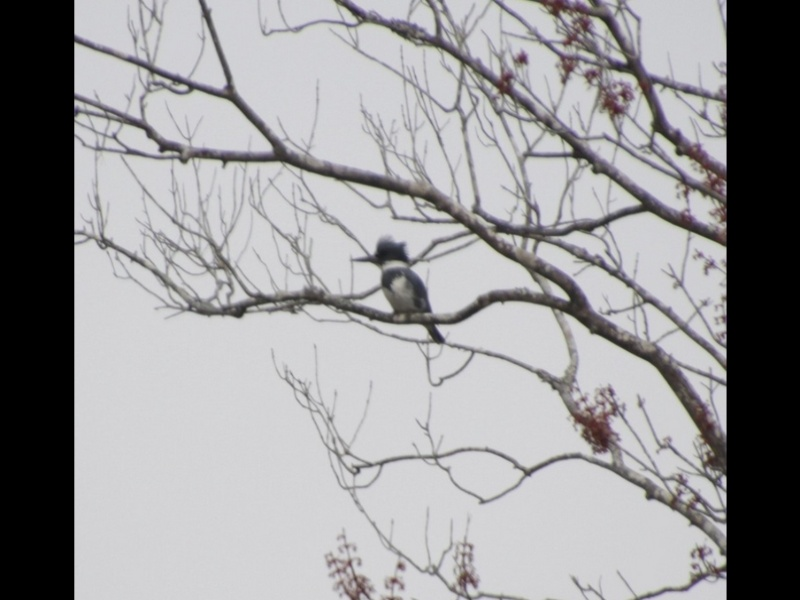kingfisher: (350, 235, 447, 346)
